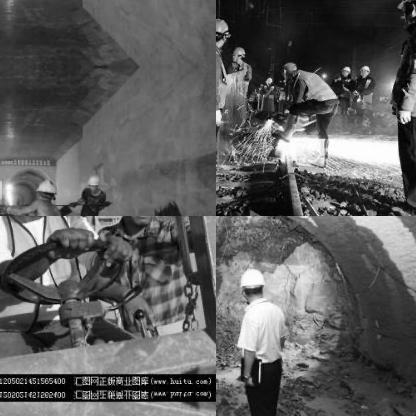Helmet: (240, 264, 263, 302), (34, 176, 58, 206), (216, 13, 230, 46), (278, 58, 300, 78), (395, 0, 415, 18), (83, 171, 99, 191), (230, 42, 246, 60), (338, 62, 352, 76), (358, 62, 368, 76)
